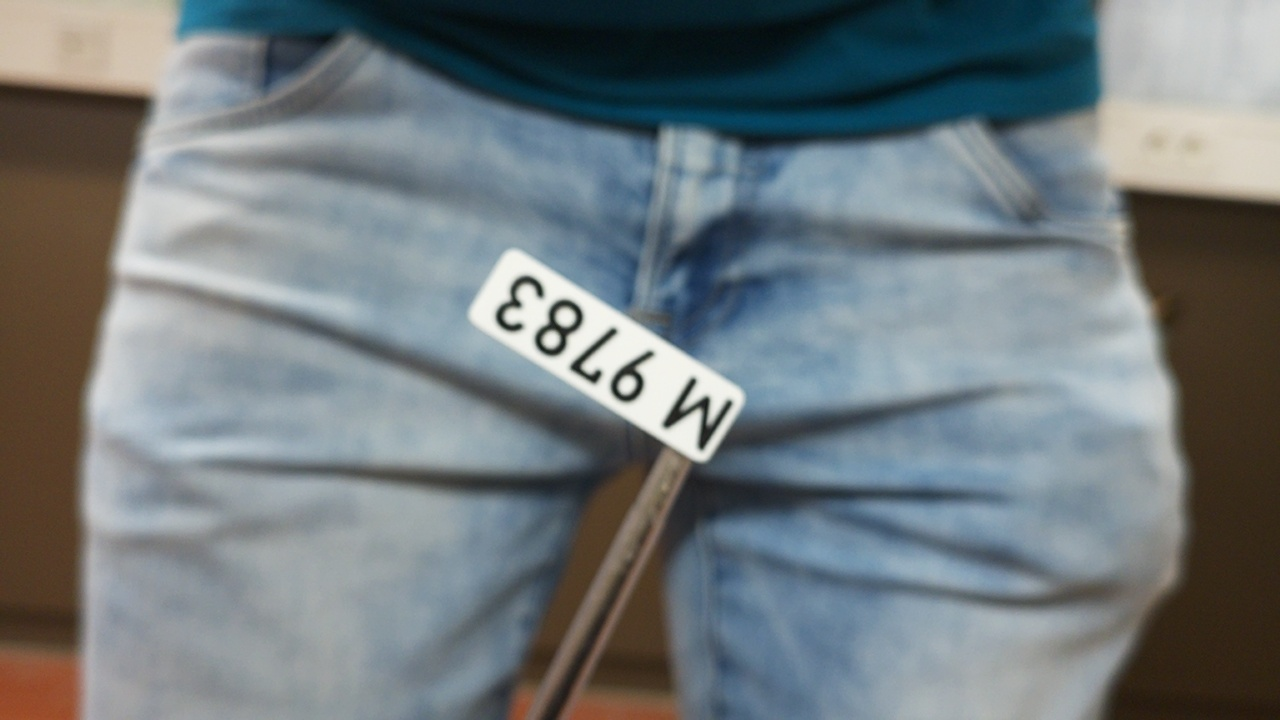license_plate: (464, 243, 748, 466)
